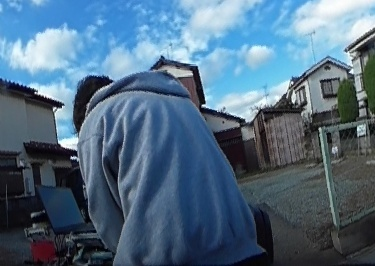person: (65, 68, 259, 266)
